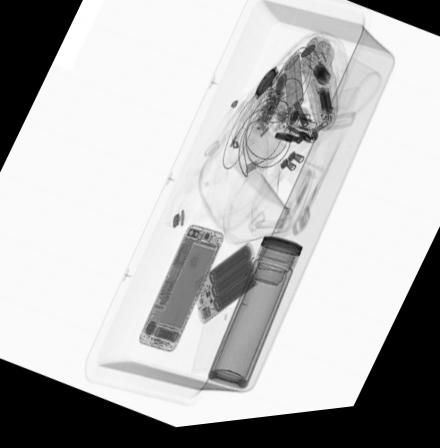Powerbank: (194, 248, 258, 332)
